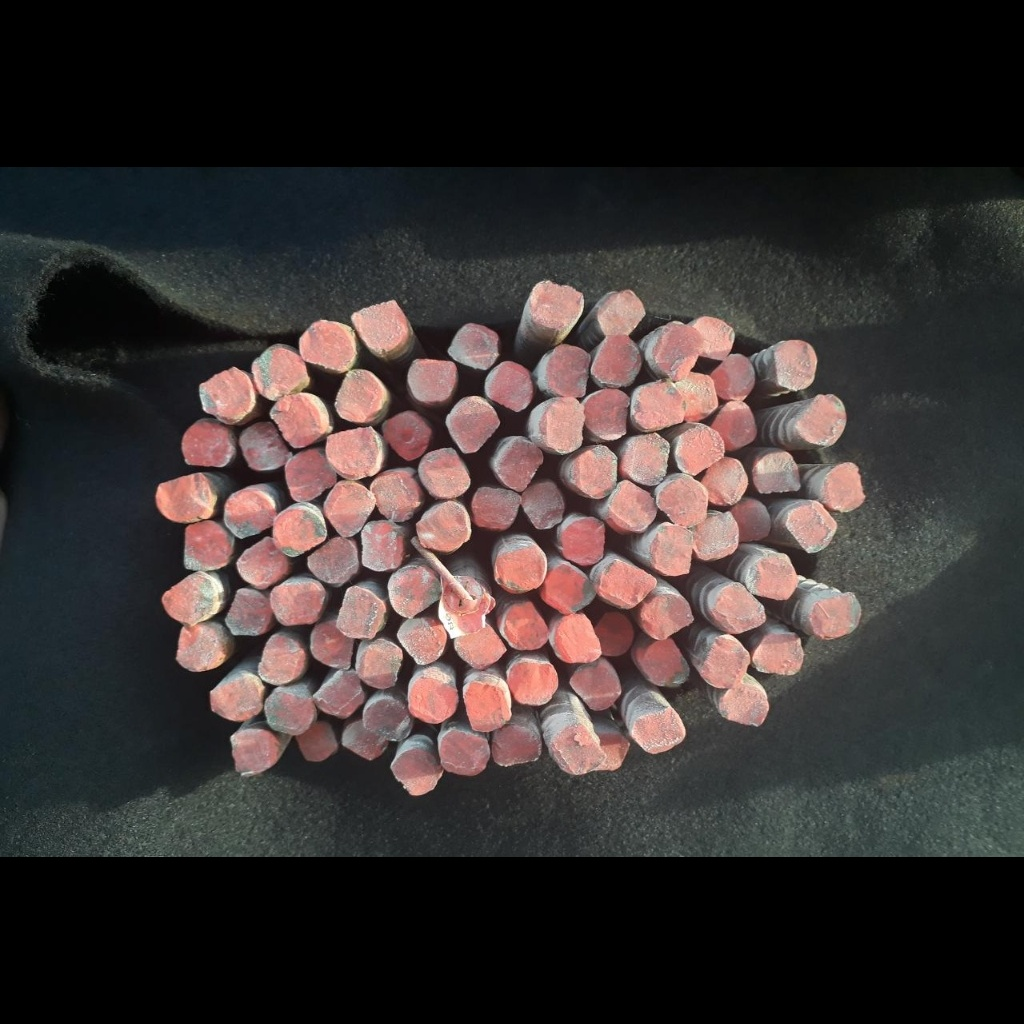dipstick: (253, 342, 310, 400), (551, 723, 605, 778), (325, 426, 381, 479), (324, 481, 375, 539), (156, 473, 216, 522), (352, 299, 407, 352), (448, 397, 500, 453), (597, 559, 656, 608), (163, 572, 218, 624), (199, 366, 252, 419), (786, 501, 838, 555), (300, 321, 357, 370), (417, 501, 471, 552), (528, 279, 583, 329), (180, 418, 237, 466), (286, 447, 338, 499), (711, 583, 766, 632), (655, 324, 703, 380), (702, 633, 750, 689), (493, 544, 546, 594), (237, 537, 291, 586), (274, 393, 324, 445), (336, 370, 385, 423), (744, 554, 798, 602), (440, 581, 487, 636), (226, 487, 275, 539), (544, 564, 596, 613), (210, 673, 264, 720), (355, 638, 404, 689), (390, 568, 441, 617), (592, 336, 643, 385), (239, 423, 291, 471), (337, 586, 385, 638), (810, 592, 862, 640), (464, 680, 511, 733), (633, 380, 683, 429), (798, 395, 847, 445), (272, 509, 326, 554), (678, 423, 723, 477), (631, 710, 686, 754), (184, 521, 234, 569), (502, 601, 550, 651), (571, 664, 621, 712), (643, 592, 694, 639), (307, 538, 359, 584), (439, 731, 491, 777), (547, 343, 590, 398), (371, 472, 419, 521), (270, 583, 326, 625), (176, 625, 225, 673), (419, 449, 469, 496), (455, 623, 505, 670), (659, 478, 707, 526), (690, 513, 738, 561), (314, 670, 363, 717), (486, 361, 533, 410), (390, 750, 441, 795), (625, 431, 670, 482), (265, 688, 313, 735), (399, 618, 447, 665), (598, 290, 646, 337), (543, 398, 584, 453), (555, 614, 601, 663), (383, 411, 430, 458), (449, 321, 497, 367), (611, 481, 657, 529), (712, 401, 757, 450), (508, 662, 558, 706), (585, 388, 628, 439), (774, 339, 817, 390), (575, 446, 617, 498), (643, 639, 689, 686), (409, 678, 457, 723), (261, 635, 305, 684), (703, 457, 747, 506), (721, 684, 767, 730), (499, 441, 544, 488), (406, 358, 454, 402), (653, 525, 694, 576), (824, 462, 865, 513), (227, 589, 271, 636), (229, 731, 276, 775), (361, 522, 403, 571), (754, 634, 803, 676), (562, 517, 605, 564), (493, 725, 543, 765), (673, 374, 717, 419), (712, 354, 755, 400), (522, 483, 565, 528), (311, 623, 352, 670), (472, 489, 521, 528), (690, 314, 733, 357), (363, 699, 409, 739), (755, 452, 800, 492), (595, 611, 633, 657), (297, 721, 338, 763), (343, 721, 386, 760), (732, 501, 772, 542), (592, 731, 629, 772)
